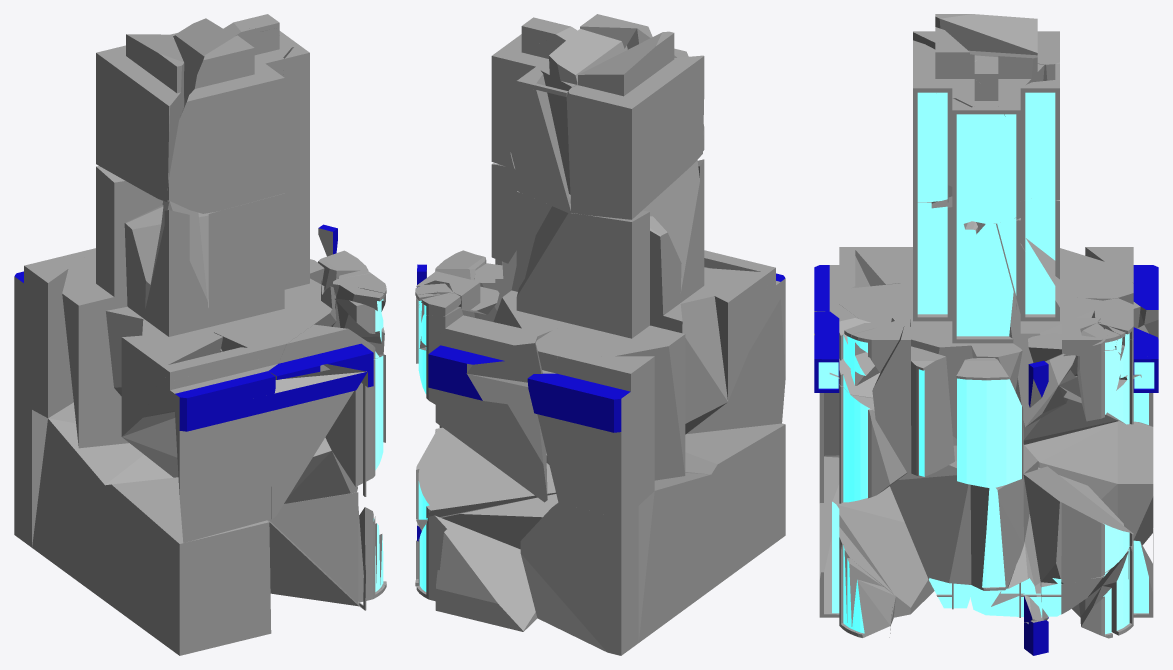
Rendered from mairie_destruct.fbx.
3 views of the same model, side by side, from view 1: azimuth 30°, elevation 25°; view 2: azimuth 150°, elevation 25°; view 3: azimuth 270°, elevation 25° (orthographic).
Parts seen in each view (by area): view 1: Cube_cell.001, Cube_cell.083, Cube_cell.040, Cube_cell.061, Cube_cell.047, Cube_cell.038, Cube_cell.095, Cube_cell.018, Cube_cell.010, Cube_cell.062, Cube_cell, Cube_cell.089 (+20 smaller); view 2: Cube_cell.061, Cube_cell.040, Cube_cell, Cube_cell.015, Cube_cell.001, Cube_cell.038, Cube_cell.059, Cube_cell.091, Cube_cell.031, Cube_cell.080, Cube_cell.068, Cube_cell.047 (+21 smaller); view 3: Cube_cell.095, Cube_cell.039, Cube_cell.080, Cube_cell.096, Cube_cell.022, Cube_cell.018, Cube_cell.068, Cube_cell.051, Cube_cell.055, Cube_cell.009, Cube_cell.052, Cube_cell.040 (+43 smaller).
Part boxes in pixels (x1=…): Cube_cell.001: x1=105, y1=477, x2=271, y2=655; Cube_cell.083: x1=167, y1=48, x2=284, y2=213; Cube_cell.040: x1=62, y1=166, x2=162, y2=448; Cube_cell.061: x1=96, y1=34, x2=184, y2=202; Cube_cell.047: x1=175, y1=393, x2=274, y2=542; Cube_cell.038: x1=32, y1=402, x2=172, y2=600; Cube_cell.095: x1=106, y1=175, x2=324, y2=396; Cube_cell.018: x1=269, y1=492, x2=363, y2=606; Cube_cell.010: x1=208, y1=193, x2=302, y2=322; Cube_cell.062: x1=121, y1=210, x2=222, y2=436; Cube_cell: x1=14, y1=248, x2=95, y2=417; Cube_cell.089: x1=174, y1=18, x2=272, y2=203; Cube_cell.061: x1=566, y1=31, x2=704, y2=219; Cube_cell.040: x1=535, y1=210, x2=685, y2=480; Cube_cell: x1=527, y1=356, x2=654, y2=518; Cube_cell.015: x1=520, y1=502, x2=638, y2=655; Cube_cell.001: x1=685, y1=423, x2=785, y2=589; Cube_cell.038: x1=638, y1=472, x2=711, y2=642; Cube_cell.059: x1=426, y1=373, x2=547, y2=502; Cube_cell.091: x1=429, y1=515, x2=537, y2=631; Cube_cell.031: x1=642, y1=160, x2=727, y2=434; Cube_cell.080: x1=416, y1=427, x2=556, y2=519; Cube_cell.068: x1=493, y1=194, x2=570, y2=373; Cube_cell.047: x1=686, y1=295, x2=785, y2=434; Cube_cell.095: x1=871, y1=196, x2=983, y2=445; Cube_cell.039: x1=872, y1=325, x2=954, y2=476; Cube_cell.080: x1=1023, y1=466, x2=1133, y2=584; Cube_cell.096: x1=890, y1=445, x2=971, y2=609; Cube_cell.022: x1=956, y1=358, x2=1023, y2=487; Cube_cell.018: x1=831, y1=483, x2=934, y2=617; Cube_cell.068: x1=1005, y1=238, x2=1109, y2=427; Cube_cell.051: x1=970, y1=444, x2=1038, y2=614; Cube_cell.055: x1=814, y1=373, x2=906, y2=503; Cube_cell.009: x1=971, y1=104, x2=1020, y2=223; Cube_cell.052: x1=971, y1=222, x2=1022, y2=390; Cube_cell.040: x1=1023, y1=248, x2=1140, y2=444.
Bounding box in the file's own units: 18862 × 36421 × 21103.
